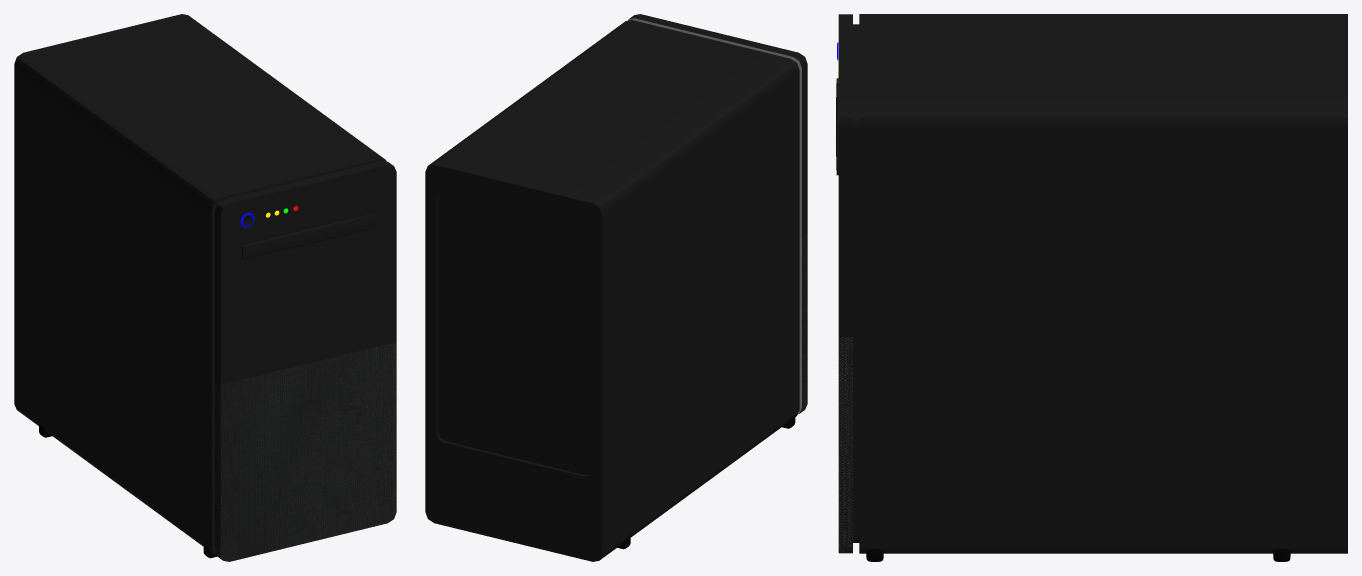
Rendered from generic-pc-desktop.fbx.
3 views of the same model, side by side, from view 1: azimuth 30°, elevation 25°; view 2: azimuth 150°, elevation 25°; view 3: azimuth 270°, elevation 25° (orthographic). The views are drawn at different scales.
Parts seen in each view (by area): view 1: pCube5; view 2: pCube5; view 3: pCube5.
Part boxes in pixels (<box>): pCube5: <box>14,14,396,561</box>; pCube5: <box>425,14,807,561</box>; pCube5: <box>836,14,1347,561</box>.
Bounding box in the file's own units: 0.3915 × 0.7683 × 0.7951.
8 materials, 1 textured.
